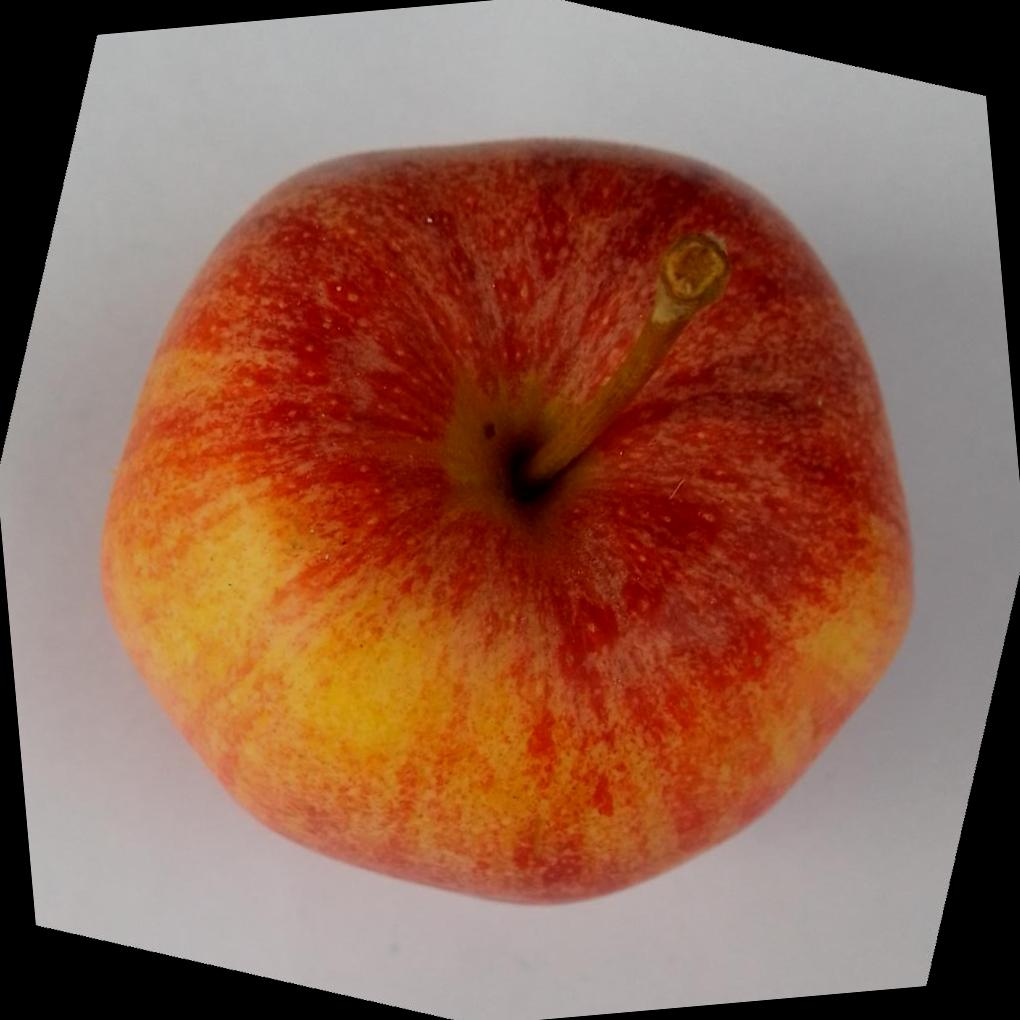FreshGuava: (91, 135, 911, 907)
